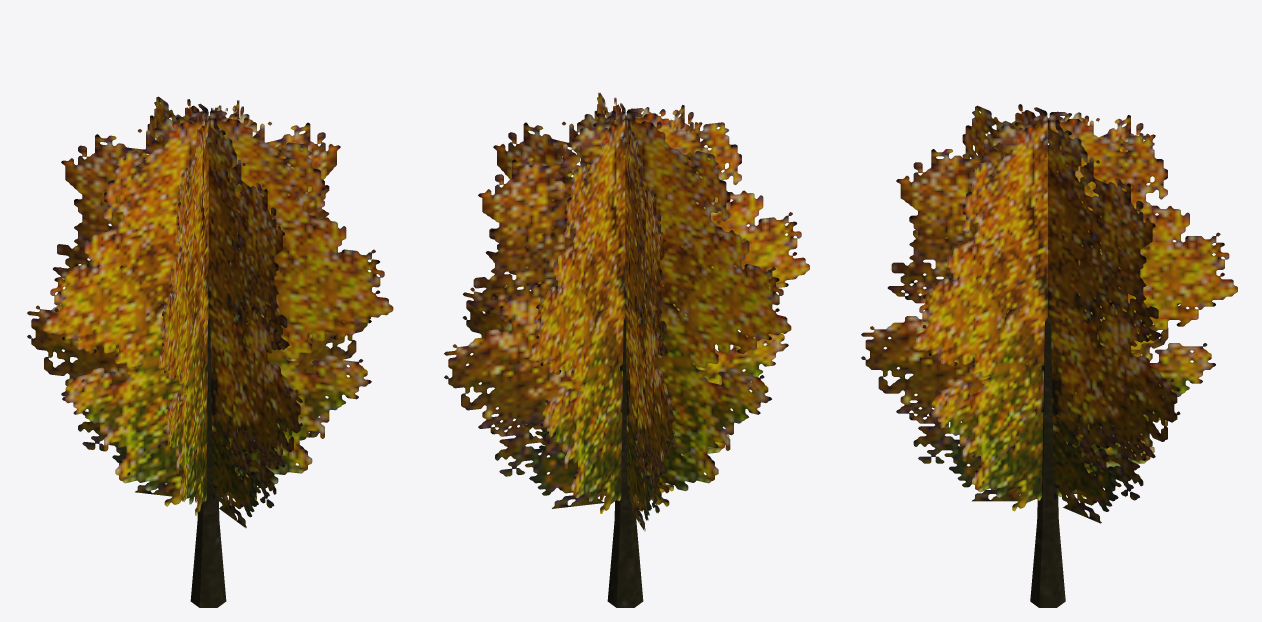
Rendered from tree32.glb.
3 renders of one model, left to right at view 1: azimuth 30°, elevation 25°; view 2: azimuth 150°, elevation 25°; view 3: azimuth 270°, elevation 25°, orthographic.
Parts seen in each view (by area): view 1: tree32; view 2: tree32; view 3: tree32.
Boxes of the visible parts, x1,y1,x2,y2 form: tree32: [27, 96, 393, 607]; tree32: [444, 92, 809, 607]; tree32: [861, 104, 1237, 607].
Size of the model in its own units: 9 by 12.5 by 9.
Materials: 1 (1 with a texture image).
